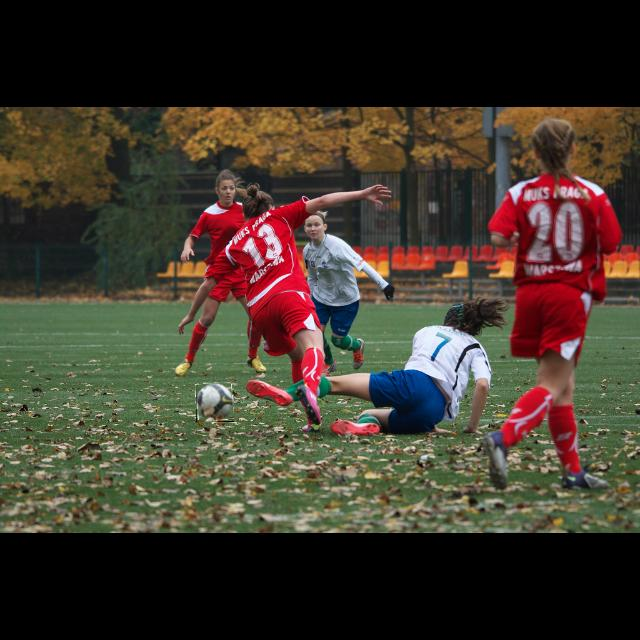Football: (196, 382, 234, 422)
